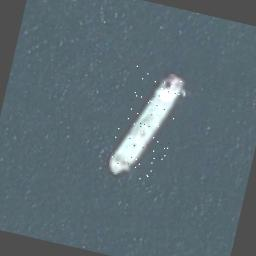boat: (106, 64, 186, 184)
